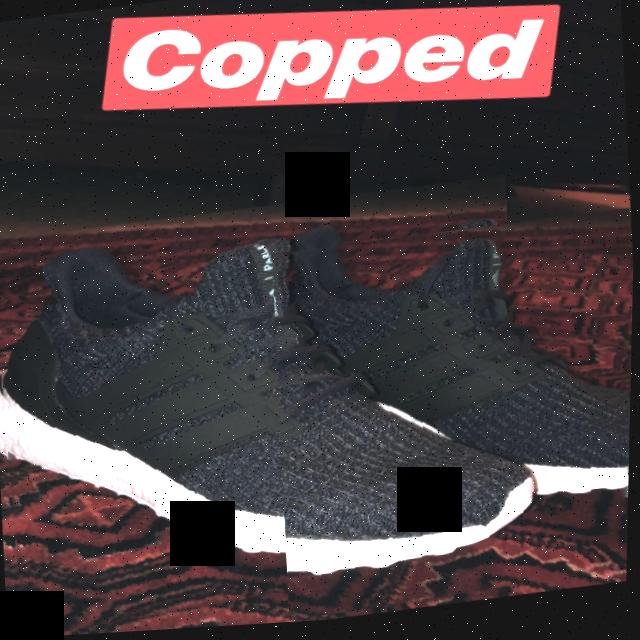shoe: (0, 179, 533, 640), (266, 215, 636, 626)
